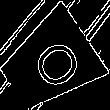O_SW: (18, 31, 81, 96)
